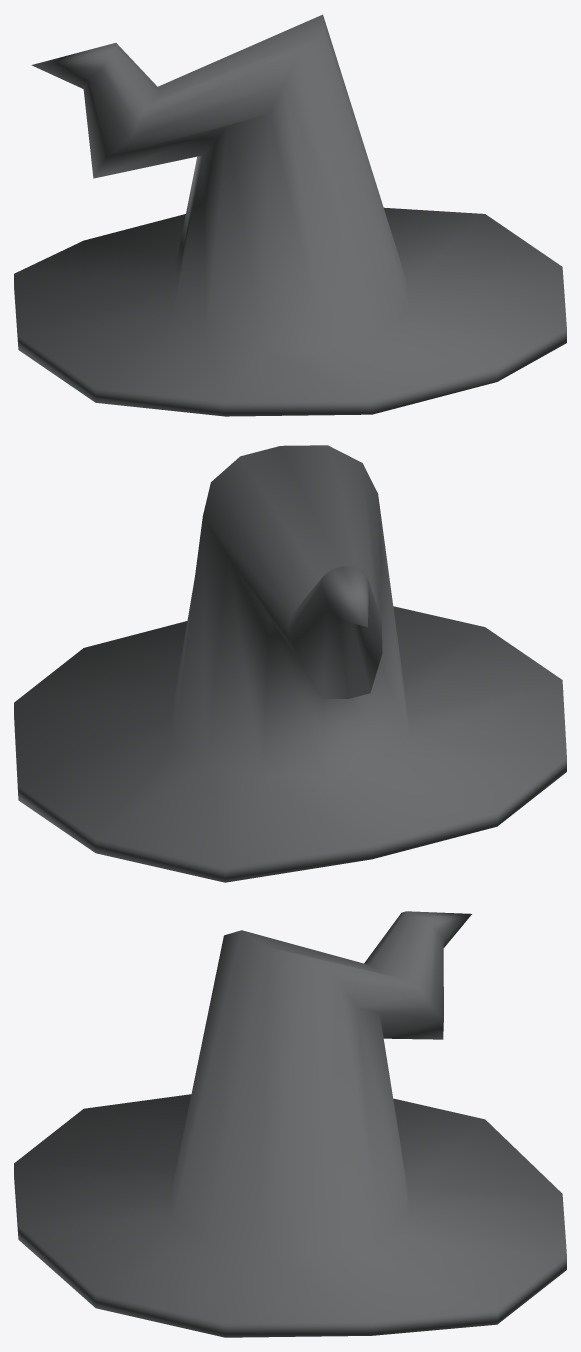
File: amogus-hat-wizard.fbx
3 views of the same model, one above another, from view 1: azimuth 30°, elevation 25°; view 2: azimuth 150°, elevation 25°; view 3: azimuth 270°, elevation 25° (orthographic).
Parts seen in each view (by area): view 1: WizardHat; view 2: WizardHat; view 3: WizardHat.
Boxes of the visible parts, box(x1,y1,x2,y2) form: WizardHat: box(14, 14, 566, 416); WizardHat: box(14, 445, 566, 882); WizardHat: box(14, 911, 566, 1337).
Size of the model in its own units: 151 by 151 by 92.12.
